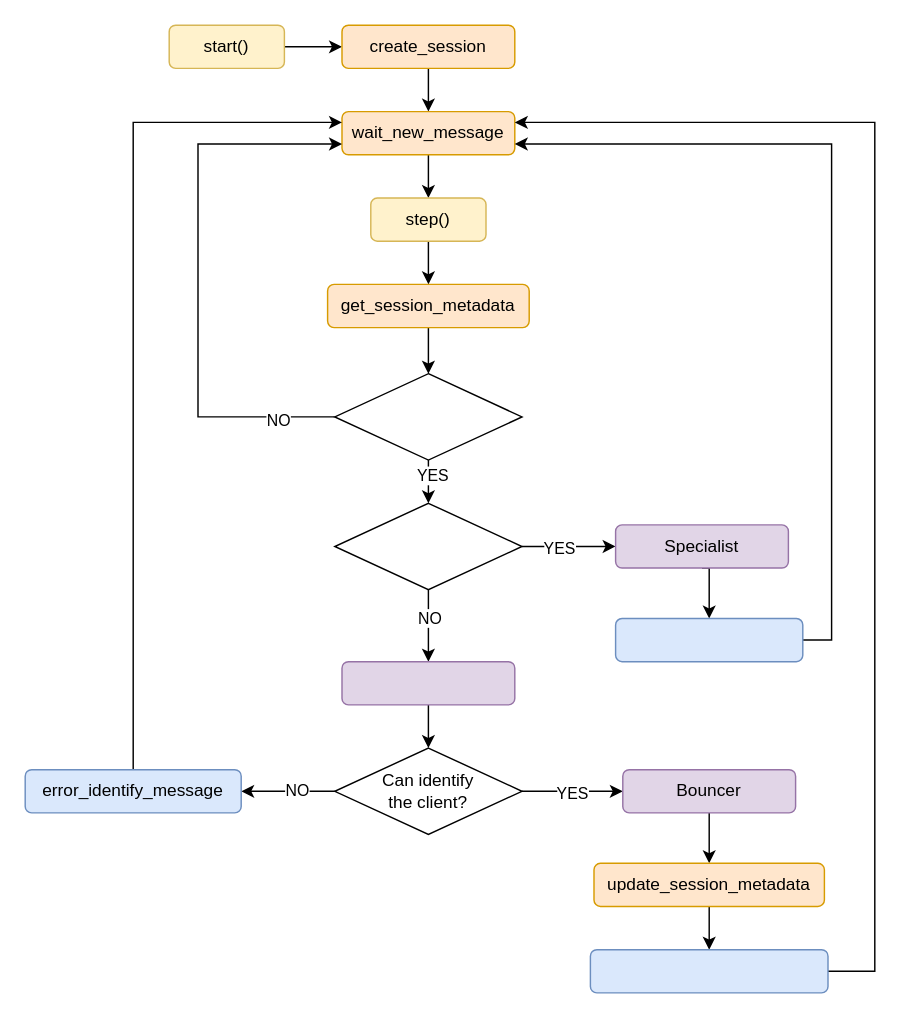
Image size: 912x1018. Some labels were removed from this diagram. Each missing label, with the centre of its shape:
"Client identified?" goes at (x=427, y=546).
"dedicated_message" goes at (x=708, y=639).
"Greeter" goes at (x=428, y=682).
"Known session?" goes at (x=427, y=416).
"successfull_login_message" goes at (x=708, y=970).
